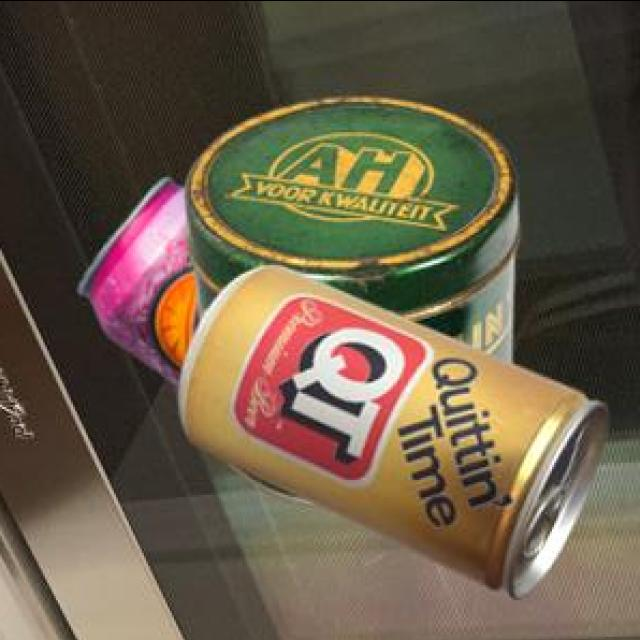logam: (181, 261, 611, 596), (188, 93, 523, 501), (83, 175, 203, 383)
